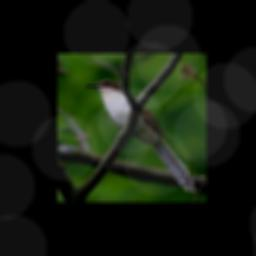Cuckoo: (83, 80, 195, 192)
